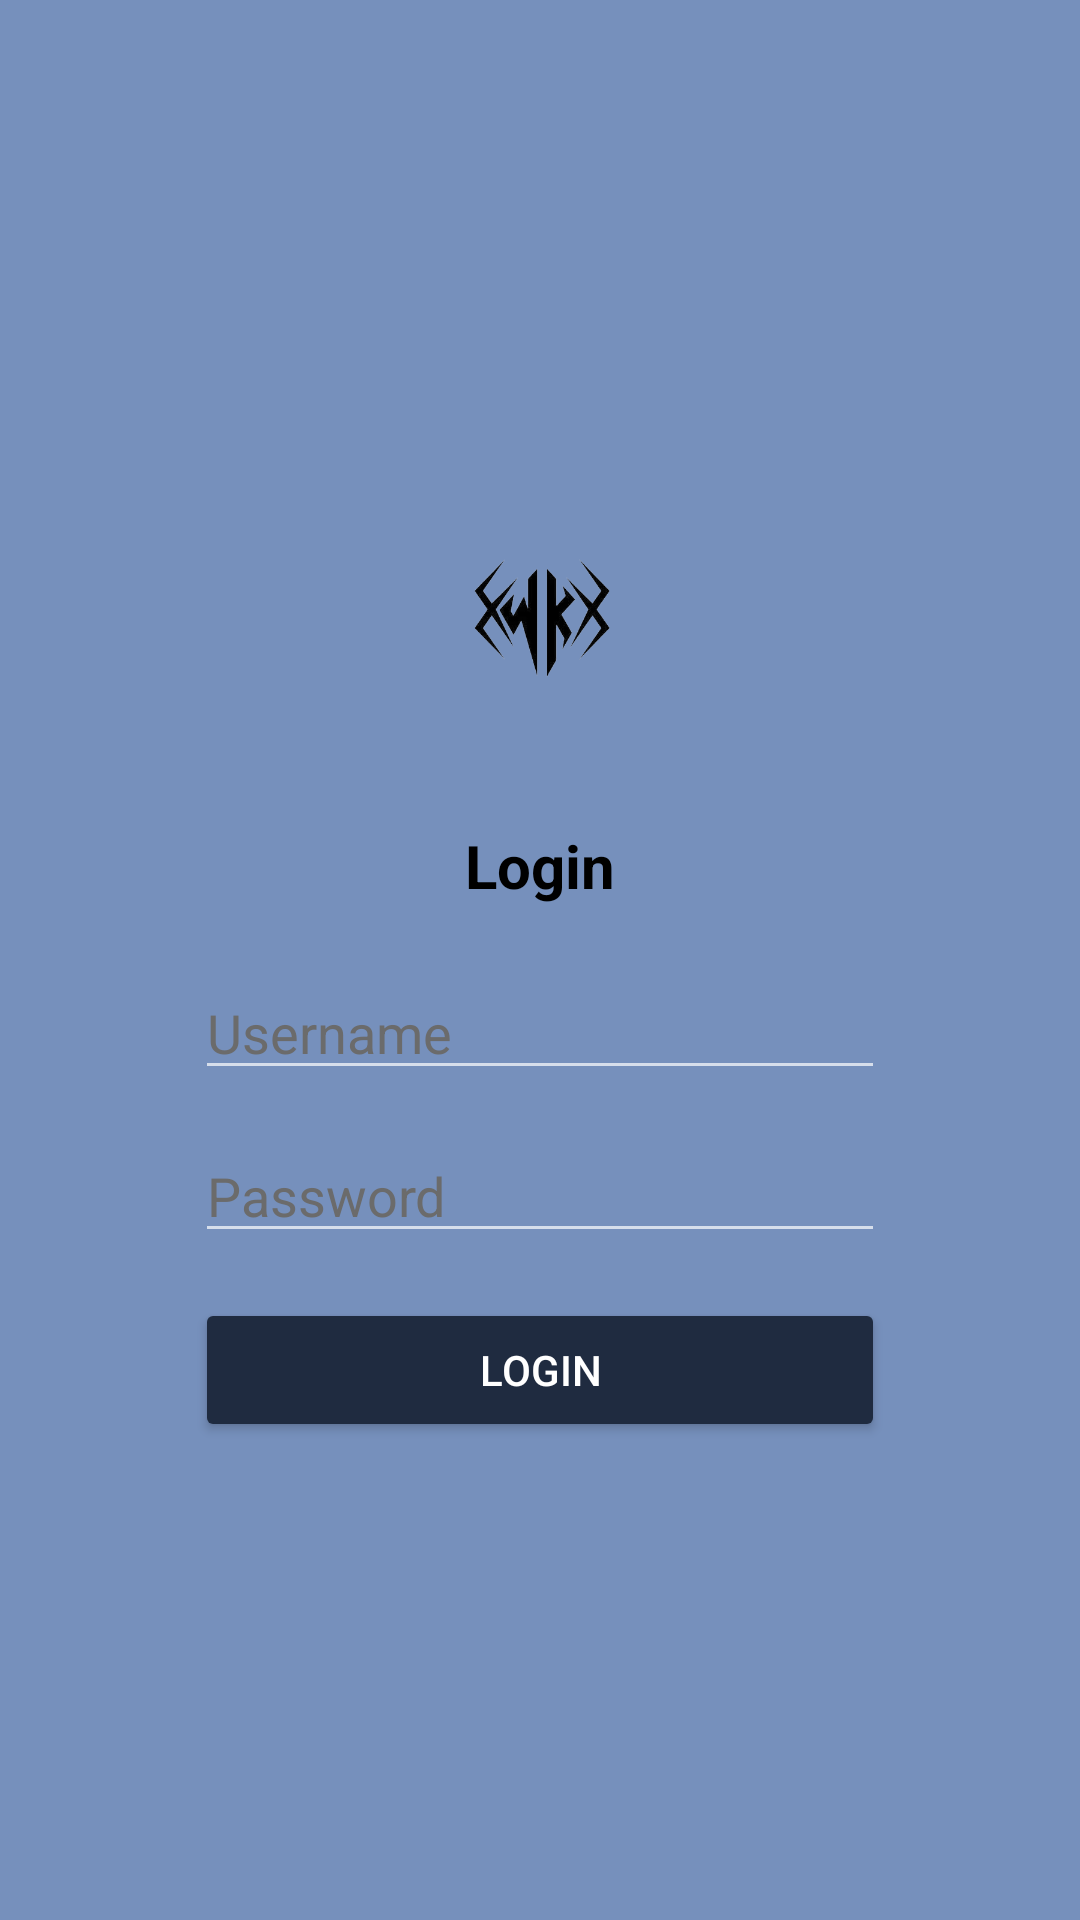

Named icons in this screenshot (1080px×1920px) and their bounding boxes, (x1, y1, x2, y2):
iconapp: (475, 561, 610, 676)
